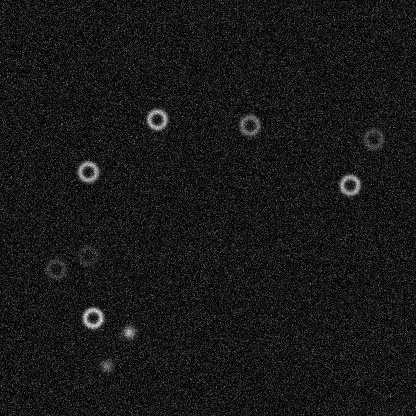Ring: (75, 159, 99, 183), (361, 126, 385, 150), (43, 257, 67, 281), (75, 243, 99, 267), (144, 107, 168, 131), (337, 172, 361, 196), (80, 305, 104, 329), (237, 113, 261, 137)
Spot: (120, 324, 136, 340), (98, 357, 114, 373)
